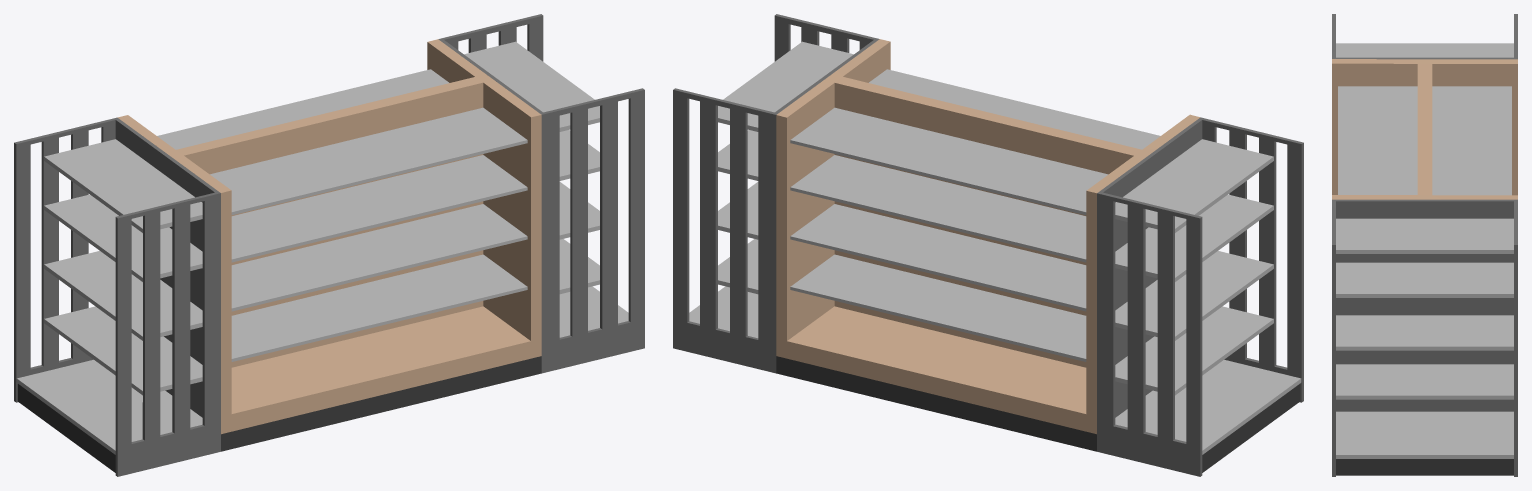
File: Two Sided Shelving Large w_End Caps #1.fbx
The picture shows the model from 3 angles, left to right: view 1: azimuth 30°, elevation 25°; view 2: azimuth 150°, elevation 25°; view 3: azimuth 270°, elevation 25°; orthographic projection. The views are drawn at different scales.
Visible parts, largest first — view 1: Two Sided Shelving Large w_End Caps #1; view 2: Two Sided Shelving Large w_End Caps #1; view 3: Two Sided Shelving Large w_End Caps #1.
Part boxes in pixels (x1,y1,x2,y2): Two Sided Shelving Large w_End Caps #1: (14, 14, 644, 476); Two Sided Shelving Large w_End Caps #1: (673, 14, 1303, 476); Two Sided Shelving Large w_End Caps #1: (1332, 14, 1517, 476).
Bounding box in the file's own units: 338 × 158 × 115.
Materials: 1 (1 with a texture image).
